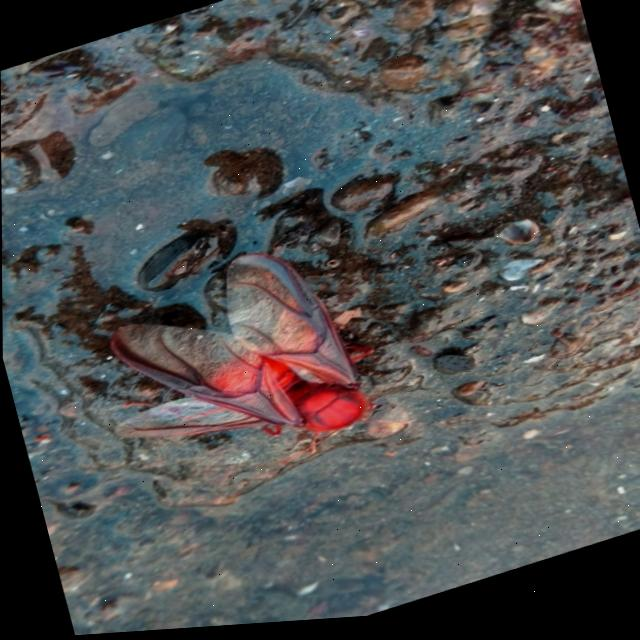Alive-Male-Alate: (80, 217, 419, 516)
